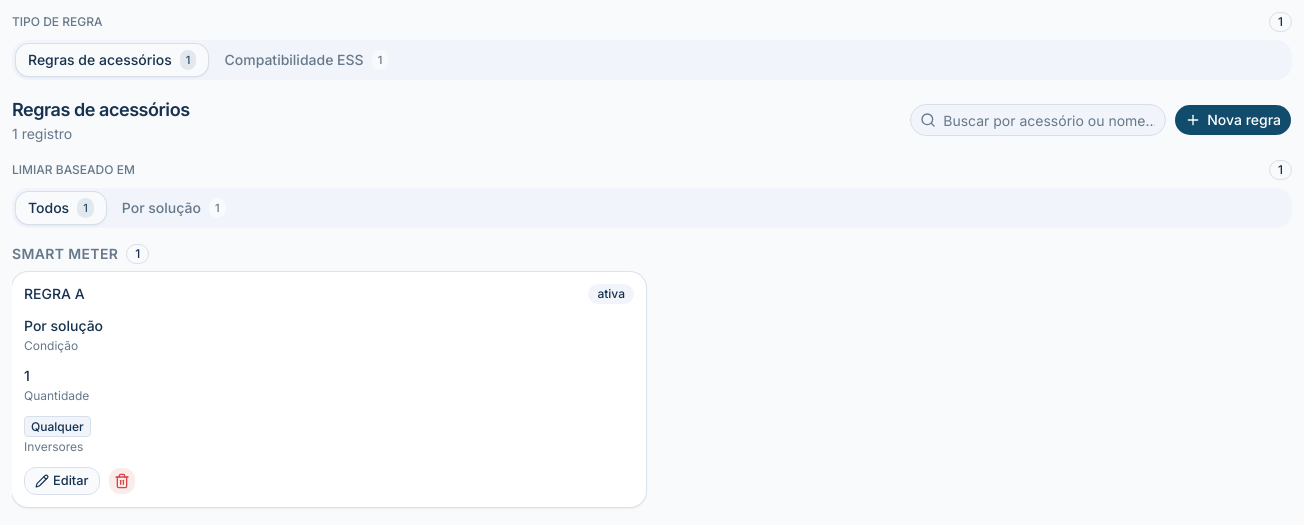
Test: RulesEditor: scope switching › switches scope via the segmented tabs
Expected: the text "Regra A" is shown, [24, 284, 85, 303]
Expected: the text "Compat X1" is not shown
Click the button "Compatibilidade ESS 1" at (306, 60), box [212, 44, 400, 76]
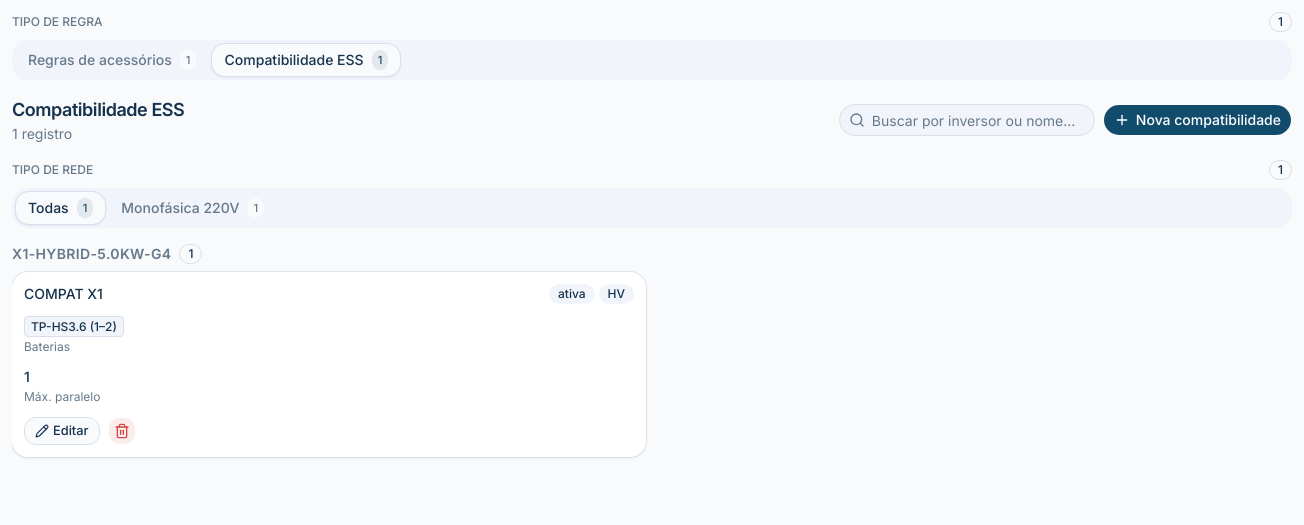
Now the text "Compat X1" is shown, box [24, 284, 103, 303]
Now the text "Regra A" is gone
